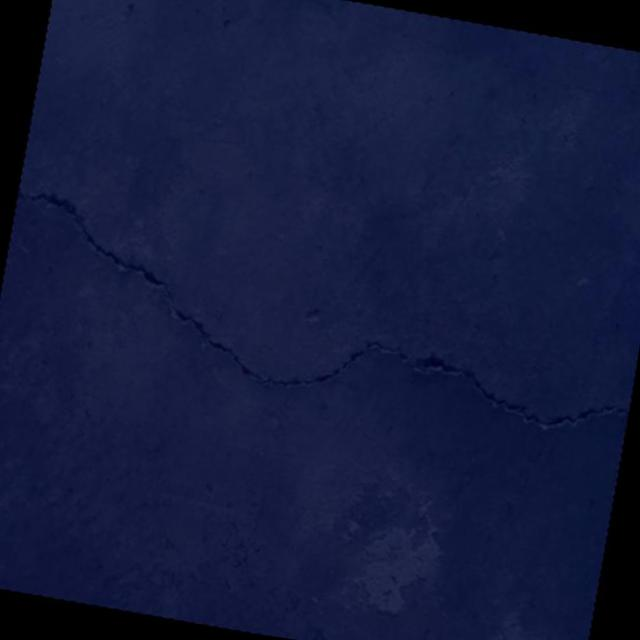crack: (0, 185, 640, 462)
